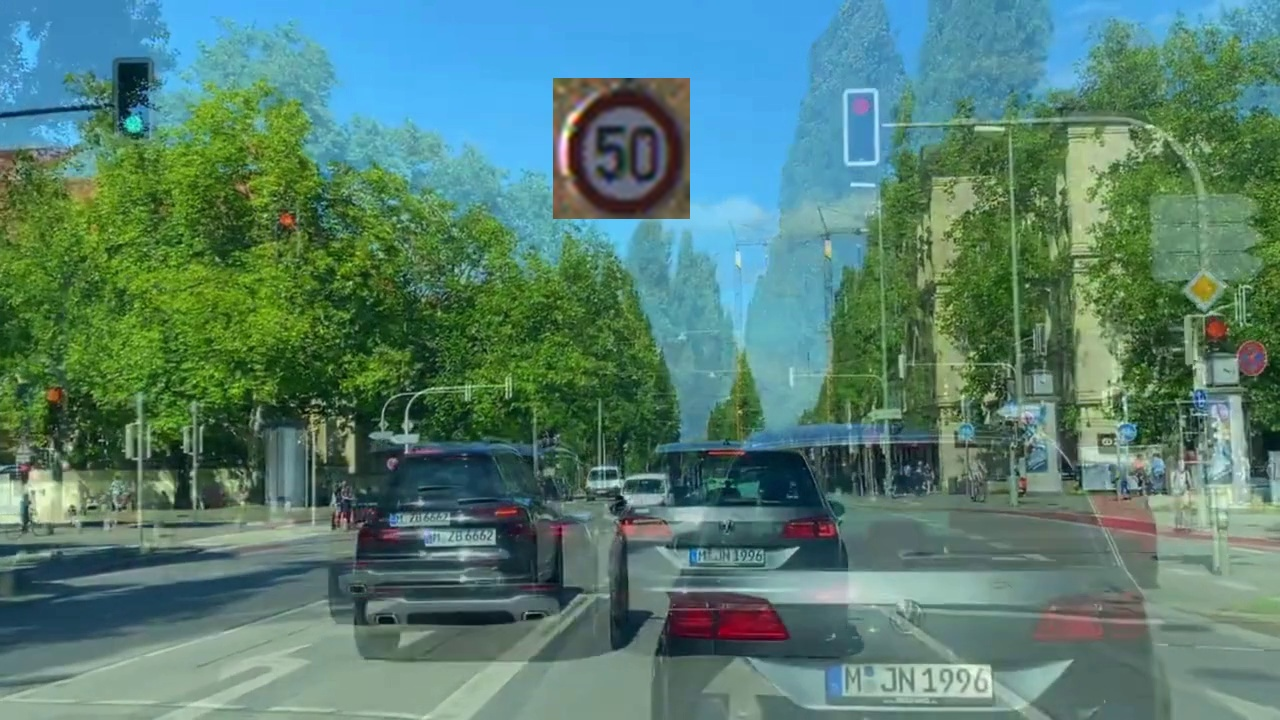Speed 50: (553, 78, 690, 219)
